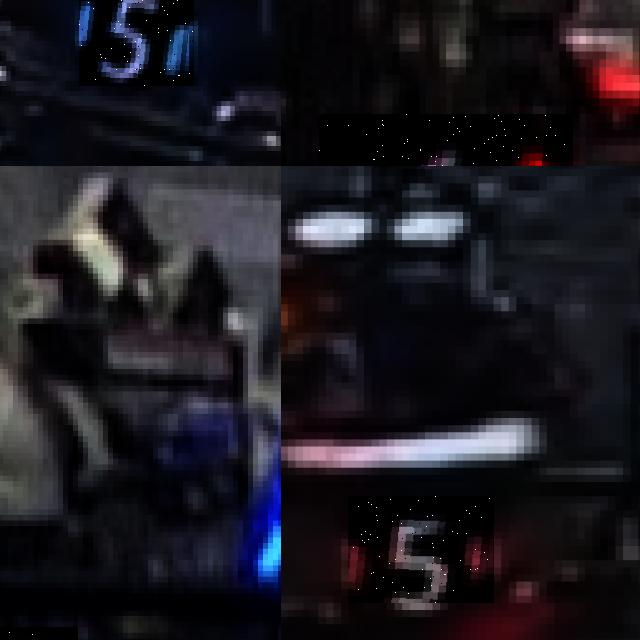B5: (79, 0, 193, 86)
R1: (319, 113, 572, 166)
R5: (348, 496, 494, 603)
